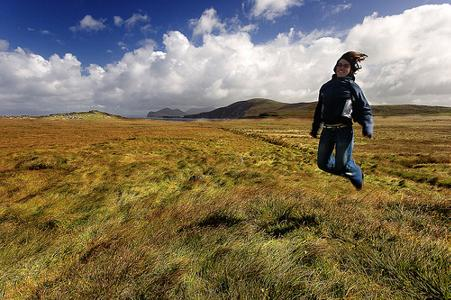person: (314, 51, 377, 191)
